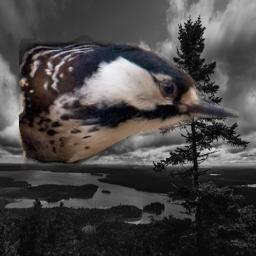Woodpecker: (19, 32, 239, 169)
